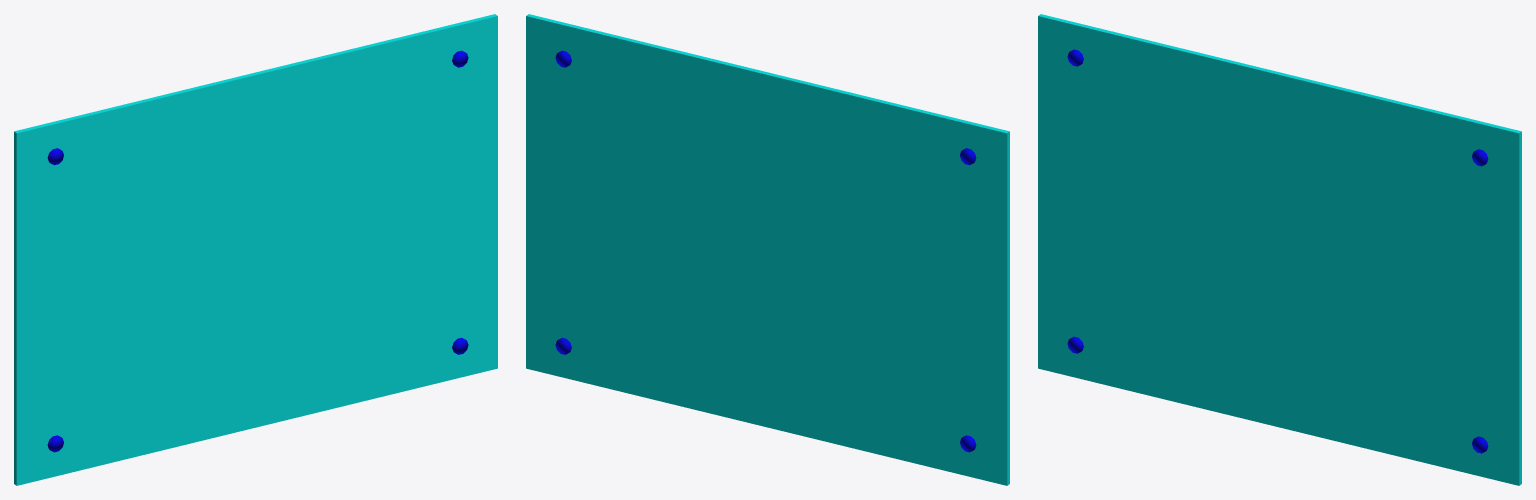
Rendered from Cuadro_01_low.fbx.
3 renders of one model, left to right at view 1: azimuth 30°, elevation 25°; view 2: azimuth 150°, elevation 25°; view 3: azimuth 330°, elevation 25°, orthographic.
Visible parts, largest first — view 1: cuadro_der; view 2: cuadro_der; view 3: cuadro_der.
Part boxes in pixels (box(x1,y1,x2,y2)): cuadro_der: box(14, 14, 497, 485); cuadro_der: box(526, 14, 1009, 485); cuadro_der: box(1038, 14, 1521, 485).
Size of the model in its own units: 99.87 by 69.91 by 2.
